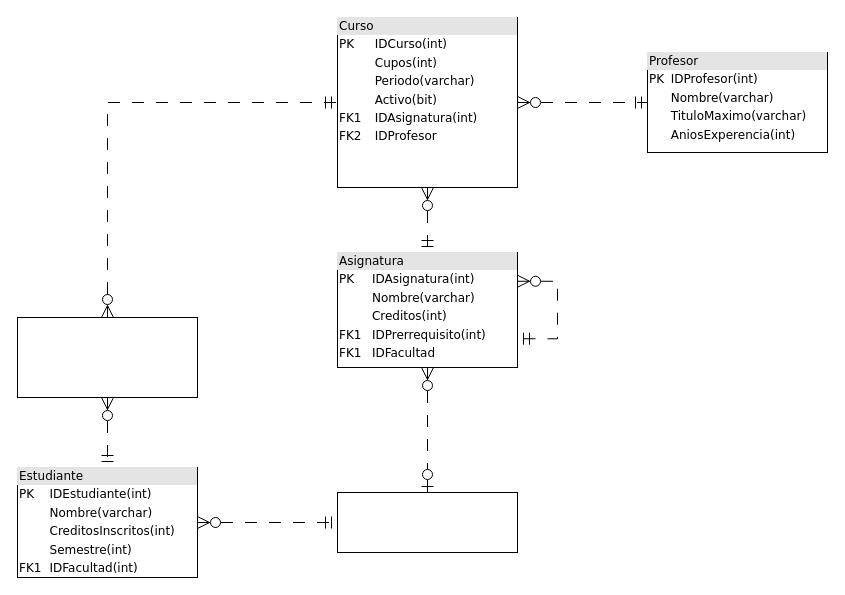
Some shapes in this 845 by 595 pixel diagram are drawn without their labels. Each missing label, with the centre of its shape:
"Facultad PK IDFacultad(int) Nombre(varchar)" goes at (x=427, y=522).
"Inscripcion PK IDInscripcion FK1 IDEstudiante FK1 IDCurso" goes at (x=107, y=357).
